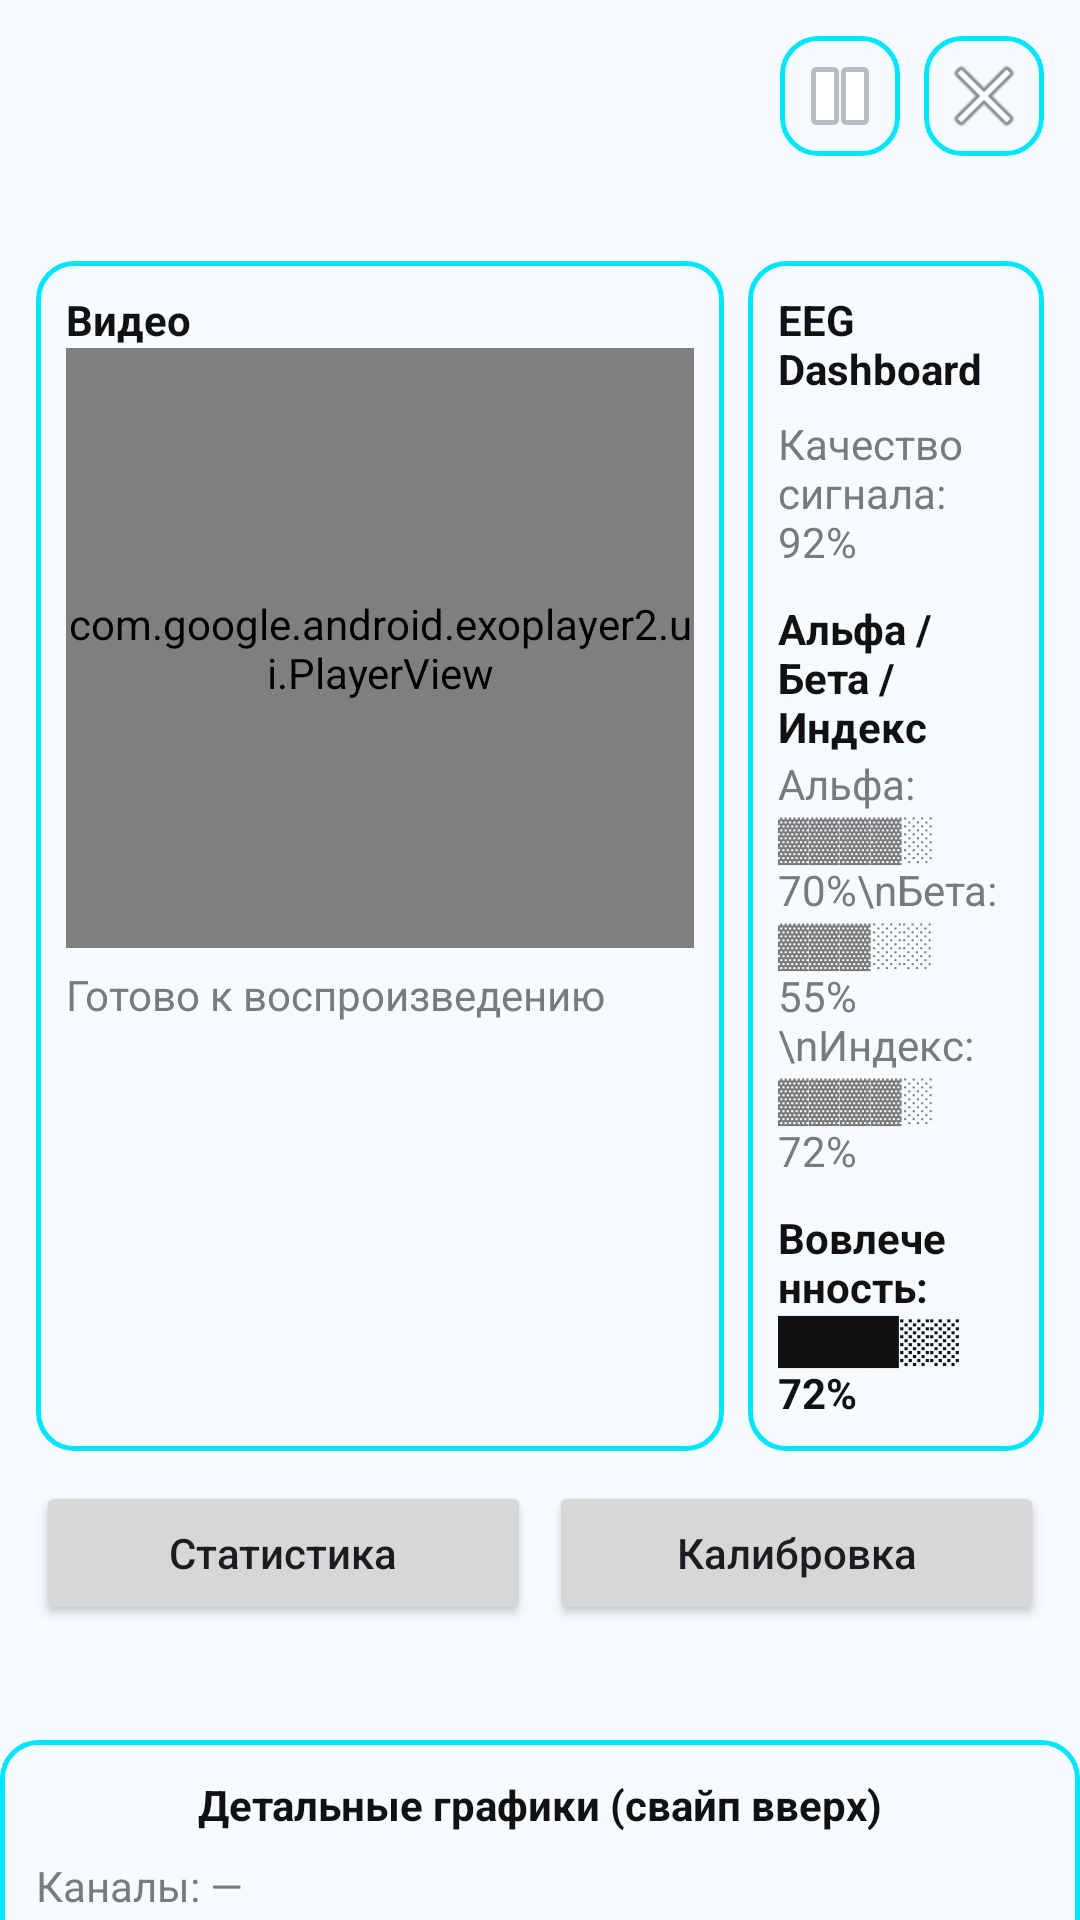

Screen size 1080*1920. Icon name, then its center in pixels as [x,y]:
Пауза: [840,96]
